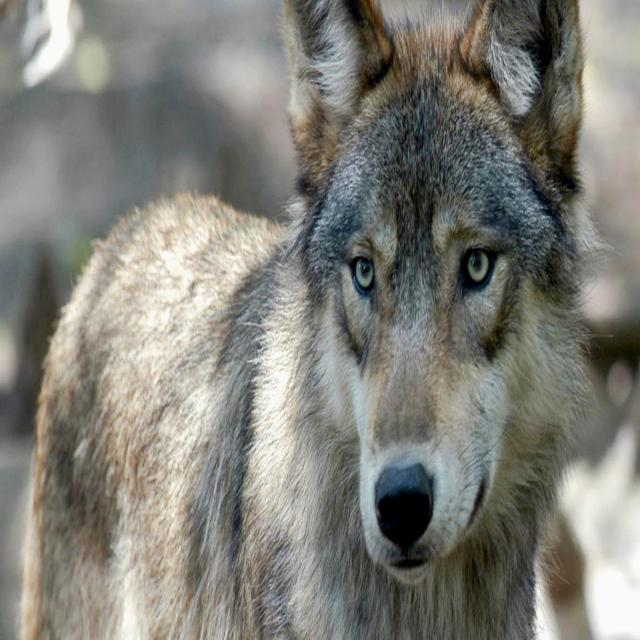Wolf: (18, 1, 610, 638)
